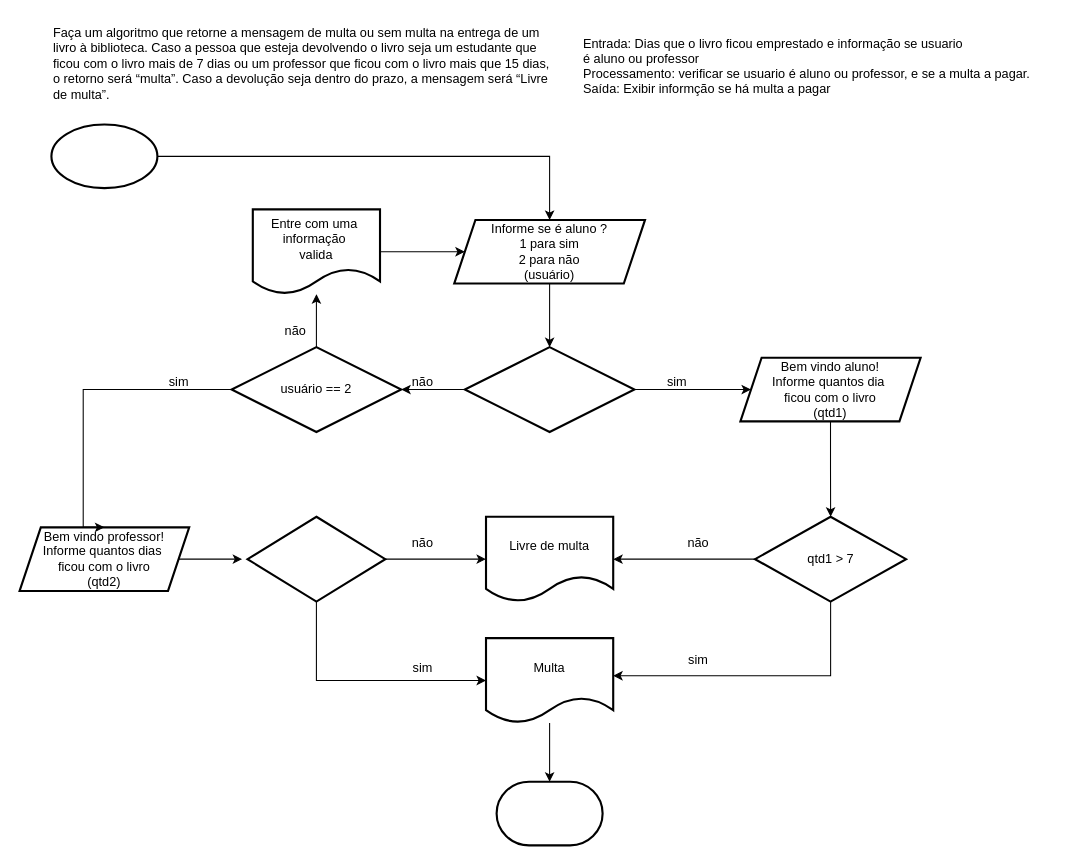
The diagram is 1087 pixels wide and 864 high, and some of its shapes have lost their labels. Each missing label, with the centre of its shape:
"Fim" belongs at [549,813].
"Início" belongs at [104,156].
"qtd2 > 15" belongs at [316,558].
"usuário == 1" belongs at [549,389].
